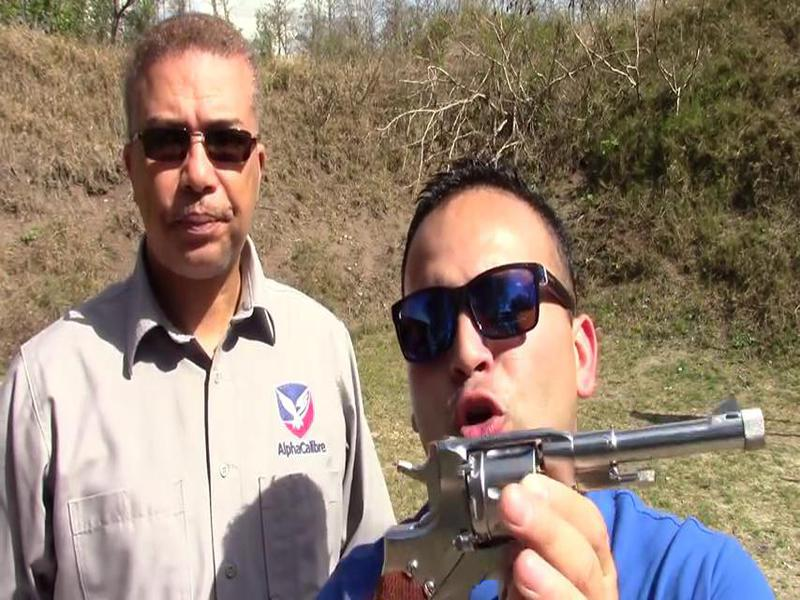Revolver: (330, 413, 751, 600)
